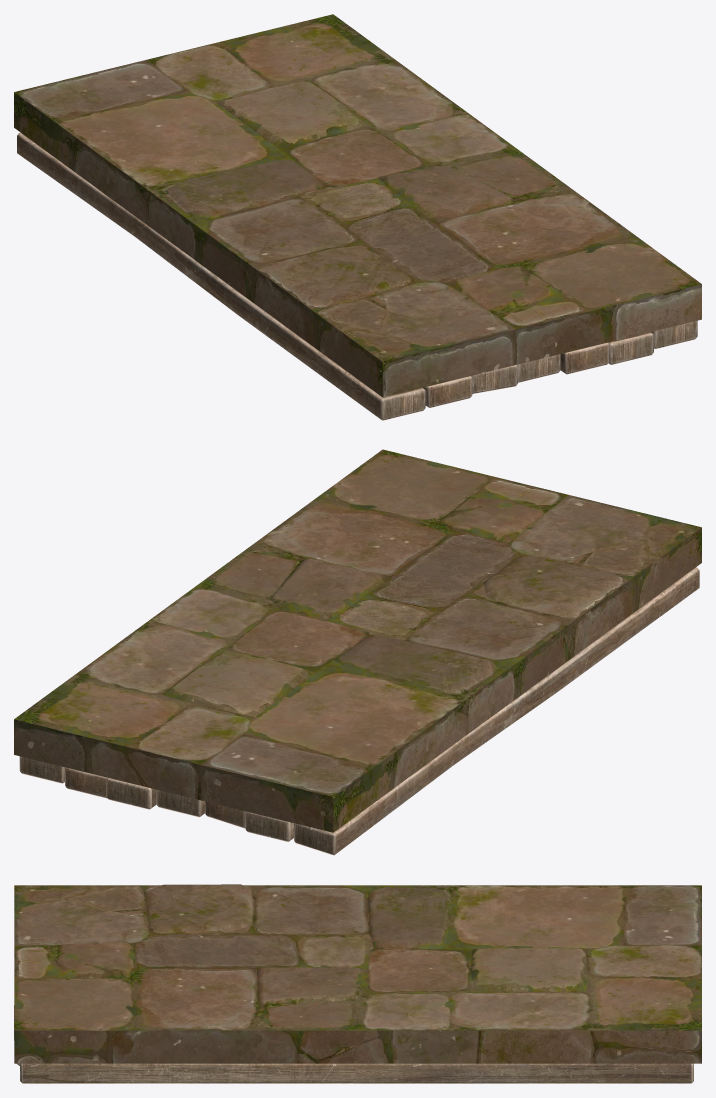
3 renders of one model, top to bottom at view 1: azimuth 30°, elevation 25°; view 2: azimuth 150°, elevation 25°; view 3: azimuth 270°, elevation 25°, orthographic. The views are drawn at different scales.
Parts seen in each view (by area): view 1: SM_Human_Ruins_Floor_03_LOD0; view 2: SM_Human_Ruins_Floor_03_LOD0; view 3: SM_Human_Ruins_Floor_03_LOD0.
Part boxes in pixels (box(x1,y1,x2,y2)): SM_Human_Ruins_Floor_03_LOD0: box(14, 14, 701, 420); SM_Human_Ruins_Floor_03_LOD0: box(14, 449, 701, 855); SM_Human_Ruins_Floor_03_LOD0: box(14, 884, 701, 1083).
Bounding box in the file's own units: 2 × 0.4005 × 4.
2 materials, 2 textured.
